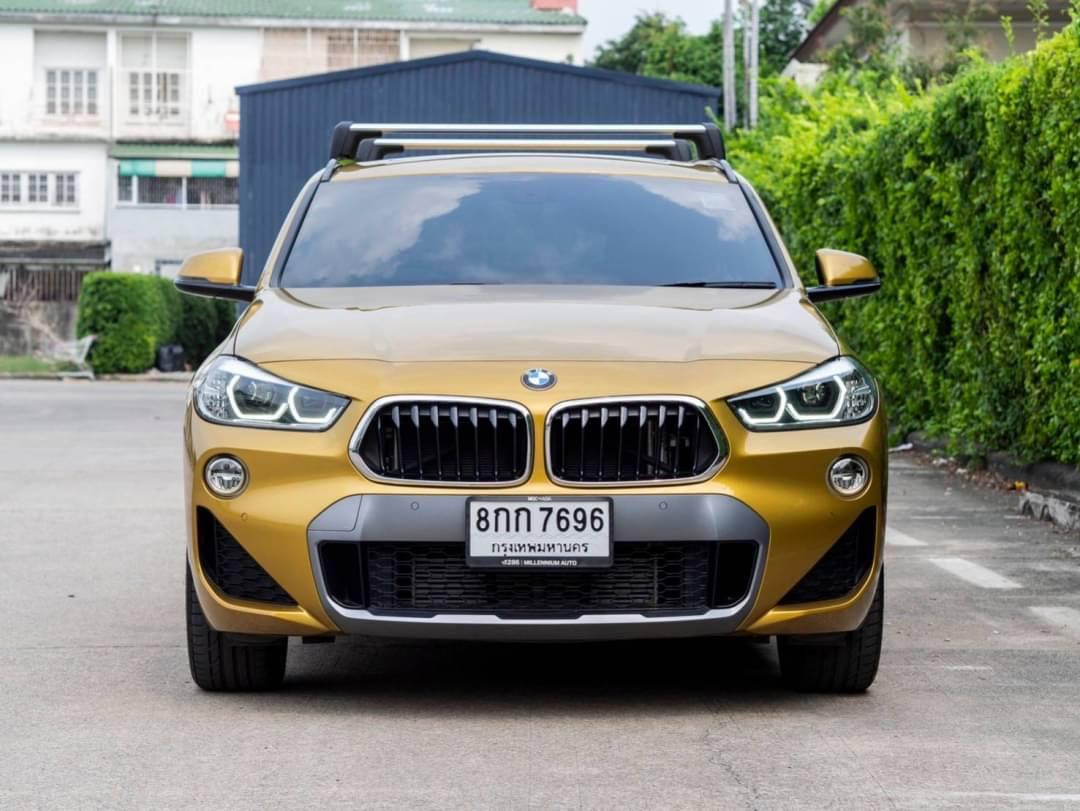license-plate: (459, 490, 618, 577)
